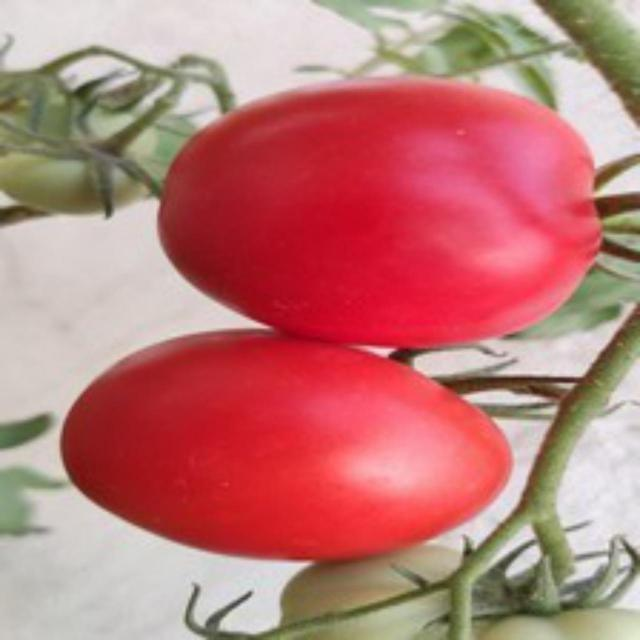tomato: (153, 87, 620, 345), (62, 336, 520, 562)
